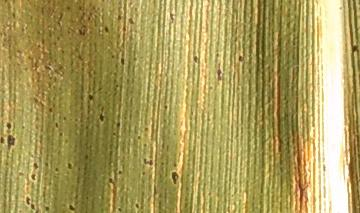tarspot: (169, 169, 180, 186), (6, 133, 16, 150), (216, 62, 223, 83), (141, 156, 154, 167), (167, 10, 176, 25), (23, 194, 32, 207), (29, 172, 39, 183), (97, 112, 106, 124), (127, 16, 136, 26), (76, 27, 86, 36), (31, 161, 39, 172), (132, 202, 141, 211), (192, 54, 200, 64), (350, 44, 358, 54), (66, 161, 73, 172), (119, 56, 126, 66), (5, 120, 12, 130), (116, 13, 123, 23), (46, 106, 54, 114), (106, 176, 114, 184), (64, 4, 72, 12), (237, 54, 244, 63), (68, 203, 75, 212), (142, 126, 151, 133), (53, 121, 60, 130), (103, 25, 109, 35), (87, 93, 94, 101), (43, 204, 50, 212), (135, 133, 142, 141), (83, 153, 90, 161), (1, 135, 7, 144), (11, 10, 17, 19), (140, 169, 146, 177), (58, 130, 64, 138), (162, 103, 168, 110), (115, 121, 122, 127), (29, 203, 35, 210), (61, 115, 68, 121), (338, 4, 344, 11), (110, 130, 116, 136), (117, 169, 123, 175), (53, 166, 59, 172), (117, 207, 122, 213), (2, 1, 9, 5)
